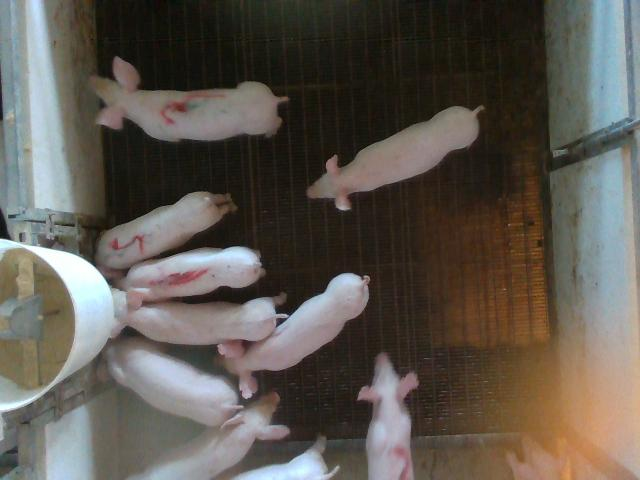pig-1: (122, 246, 265, 300)
pig-2: (358, 352, 419, 479)
pig-3: (90, 56, 288, 141)
pig-5: (95, 192, 236, 269)
